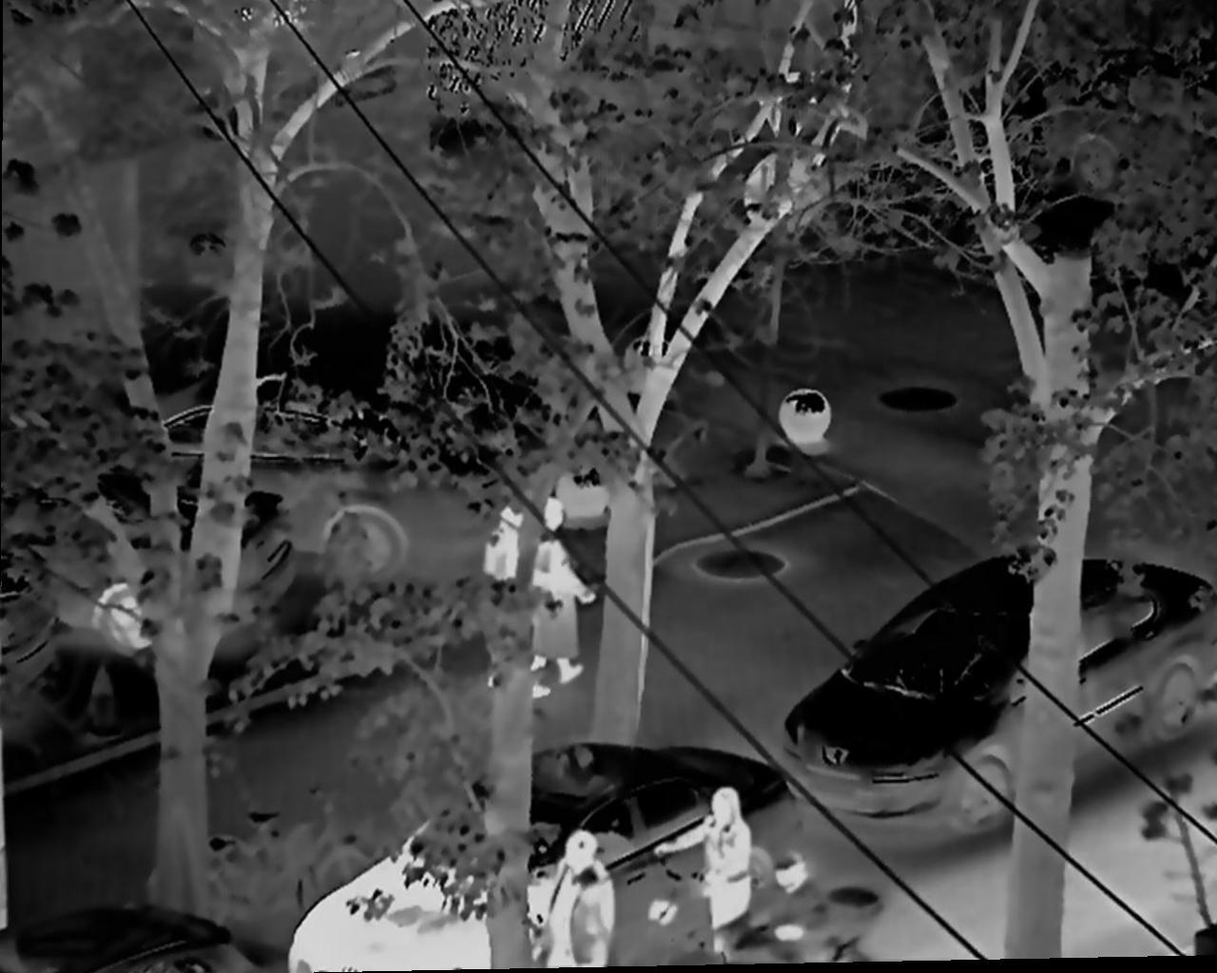person: (648, 783, 752, 925), (532, 499, 595, 699), (530, 826, 614, 970)
